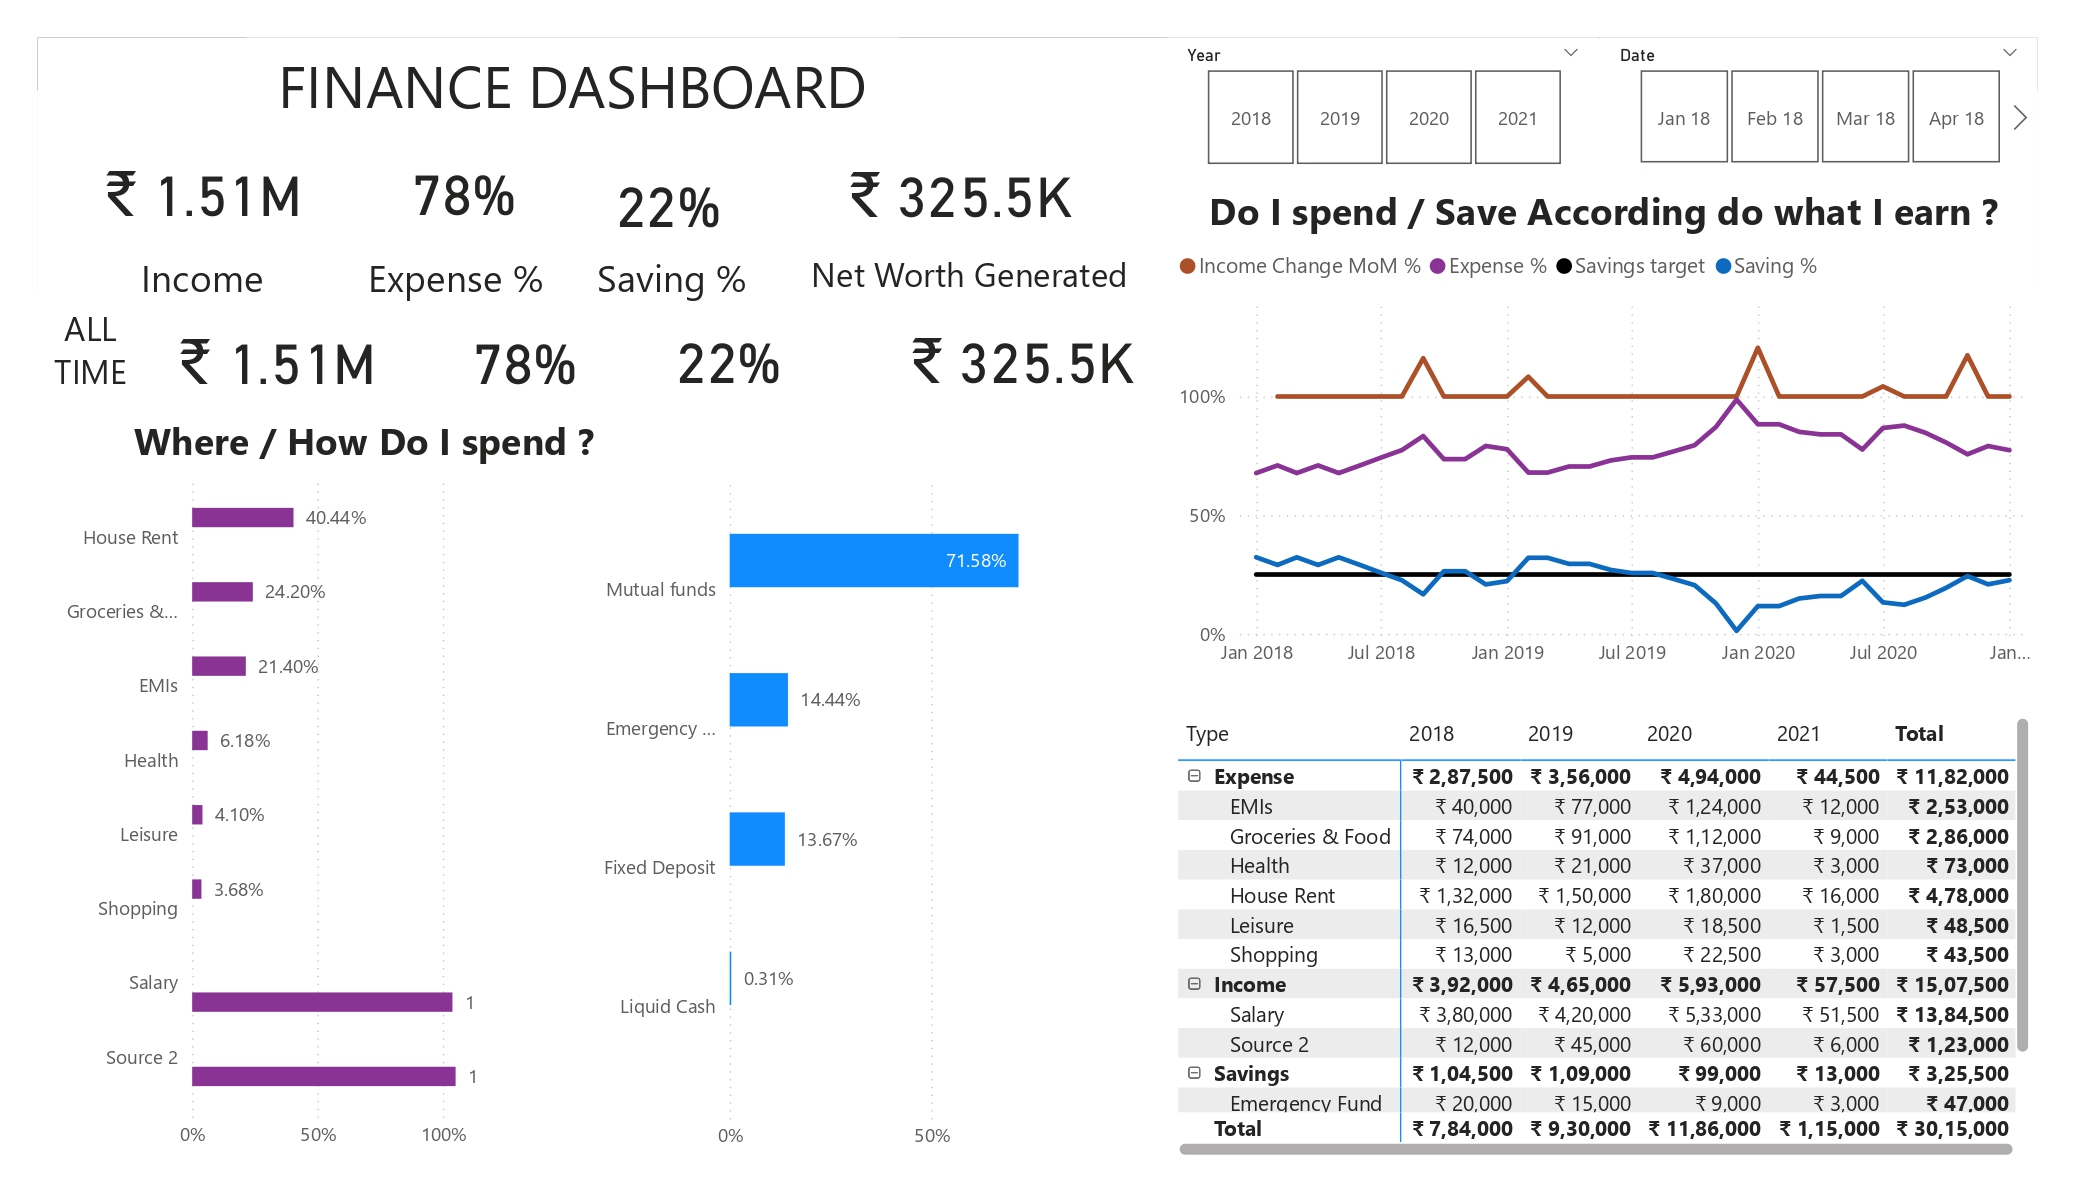

What the dashboard file says about the page in this screenshot:
{"tool":"powerbi","page":{"name":"Page 1","canvas":[1280,720],"ordinal":0},"visuals":[{"type":"card","fields":{"Values":["Table.Total Income"]},"box":[2.9,67.5,206.5,61.9],"z":0},{"type":"card","fields":{"Values":["Table.Total Saving"]},"box":[461.2,66.1,258.8,66.1],"z":1000},{"type":"card","fields":{"Values":["Table.Expense %"]},"box":[209.3,66.1,128,63.3],"z":2000},{"type":"card","fields":{"Values":["Table.Saving %"]},"box":[337.3,66.1,133.5,78.5],"z":3000},{"type":"textbox","box":[49.7,132.2,111.5,42.7],"z":4000},{"type":"textbox","box":[198.3,132.2,139,44],"z":5000},{"type":"textbox","box":[344.2,132.2,123.9,42.7],"z":6000},{"type":"textbox","box":[470.3,132.2,252.7,41.1],"z":7000},{"type":"slicer","fields":{"Values":["FinData.Year"]},"box":[722.9,0,276.2,88.2],"z":8000},{"type":"slicer","fields":{"Values":["FinData.Date"]},"box":[999.9,0,280.6,87.1],"z":9000},{"type":"card","fields":{"Values":["Table.Total Income"]},"box":[50.1,174.9,207.2,61.7],"z":10000},{"type":"card","fields":{"Values":["Table.Total Saving"]},"box":[499.7,173.5,261.5,63.3],"z":11000},{"type":"card","fields":{"Values":["Table.Expense %"]},"box":[248.2,173.8,128,63.3],"z":12000},{"type":"card","fields":{"Values":["Table.Saving %"]},"box":[375.9,173.5,133.5,63.3],"z":13000},{"type":"textbox","box":[0,166,67.6,79.3],"z":14000},{"type":"textbox","box":[133.7,0,417.3,73.5],"z":15000},{"type":"clusteredBarChart","fields":{"Y":["Table.Total Expense","Table.Expense %","Table.Income Change MoM %"],"Category":["FinData.Component"]},"box":[0,268.9,343.8,451.1],"z":16000},{"type":"clusteredBarChart","fields":{"Category":["FinData.Component"],"Y":["Table.Total Saving","Table.Saving %"]},"box":[343.6,269.5,343.6,451.4],"z":17000},{"type":"textbox","box":[45.8,236.3,326.4,45.8],"z":18000},{"type":"lineChart","fields":{"Y":["Table.Income Change Mom %","Table.Expense %","Table.Savings target","Table.Saving %"],"Category":["FinData.Date"]},"box":[725.2,125.5,555.3,286.5],"z":19000},{"type":"textbox","box":[725.2,88.6,555.3,45.8],"z":20000},{"type":"pivotTable","fields":{"Rows":["FinData.Type","FinData.Component"],"Columns":["FinData.Year"],"Values":["Table.Values"]},"box":[725.2,429.8,555.3,291],"z":21000}]}

Visuals, with their boxes in screenshot pixels (x1, y1, x2, y2):
card - Table.Total Income: 42:143:365:240
card - Table.Total Saving: 758:141:1162:244
card - Table.Expense %: 365:141:565:240
card - Table.Saving %: 565:141:773:263
textbox: 115:244:289:311
textbox: 347:244:565:313
textbox: 575:244:769:311
textbox: 772:244:1167:308
slicer - FinData.Year: 1167:38:1599:175
slicer - FinData.Date: 1600:38:2038:174
card - Table.Total Income: 116:311:440:407
card - Table.Total Saving: 818:309:1227:408
card - Table.Expense %: 425:309:625:408
card - Table.Saving %: 625:309:833:408
textbox: 38:297:143:421
textbox: 246:38:898:152
clusteredBarChart - Table.Total Expense x Table.Expense %: 38:458:575:1162
clusteredBarChart - FinData.Component x Table.Total Saving: 574:459:1111:1162
textbox: 109:407:619:478
lineChart - Table.Income Change Mom % x Table.Expense %: 1171:234:2038:681
textbox: 1171:176:2038:247
pivotTable - FinData.Type x FinData.Component: 1171:709:2038:1162
